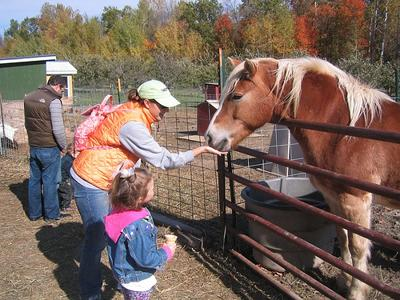person: (69, 78, 225, 295)
